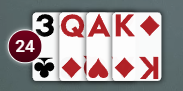3: (31, 12, 58, 39)
a: (86, 13, 113, 41)
k: (113, 12, 137, 39)
q: (59, 13, 87, 40)
